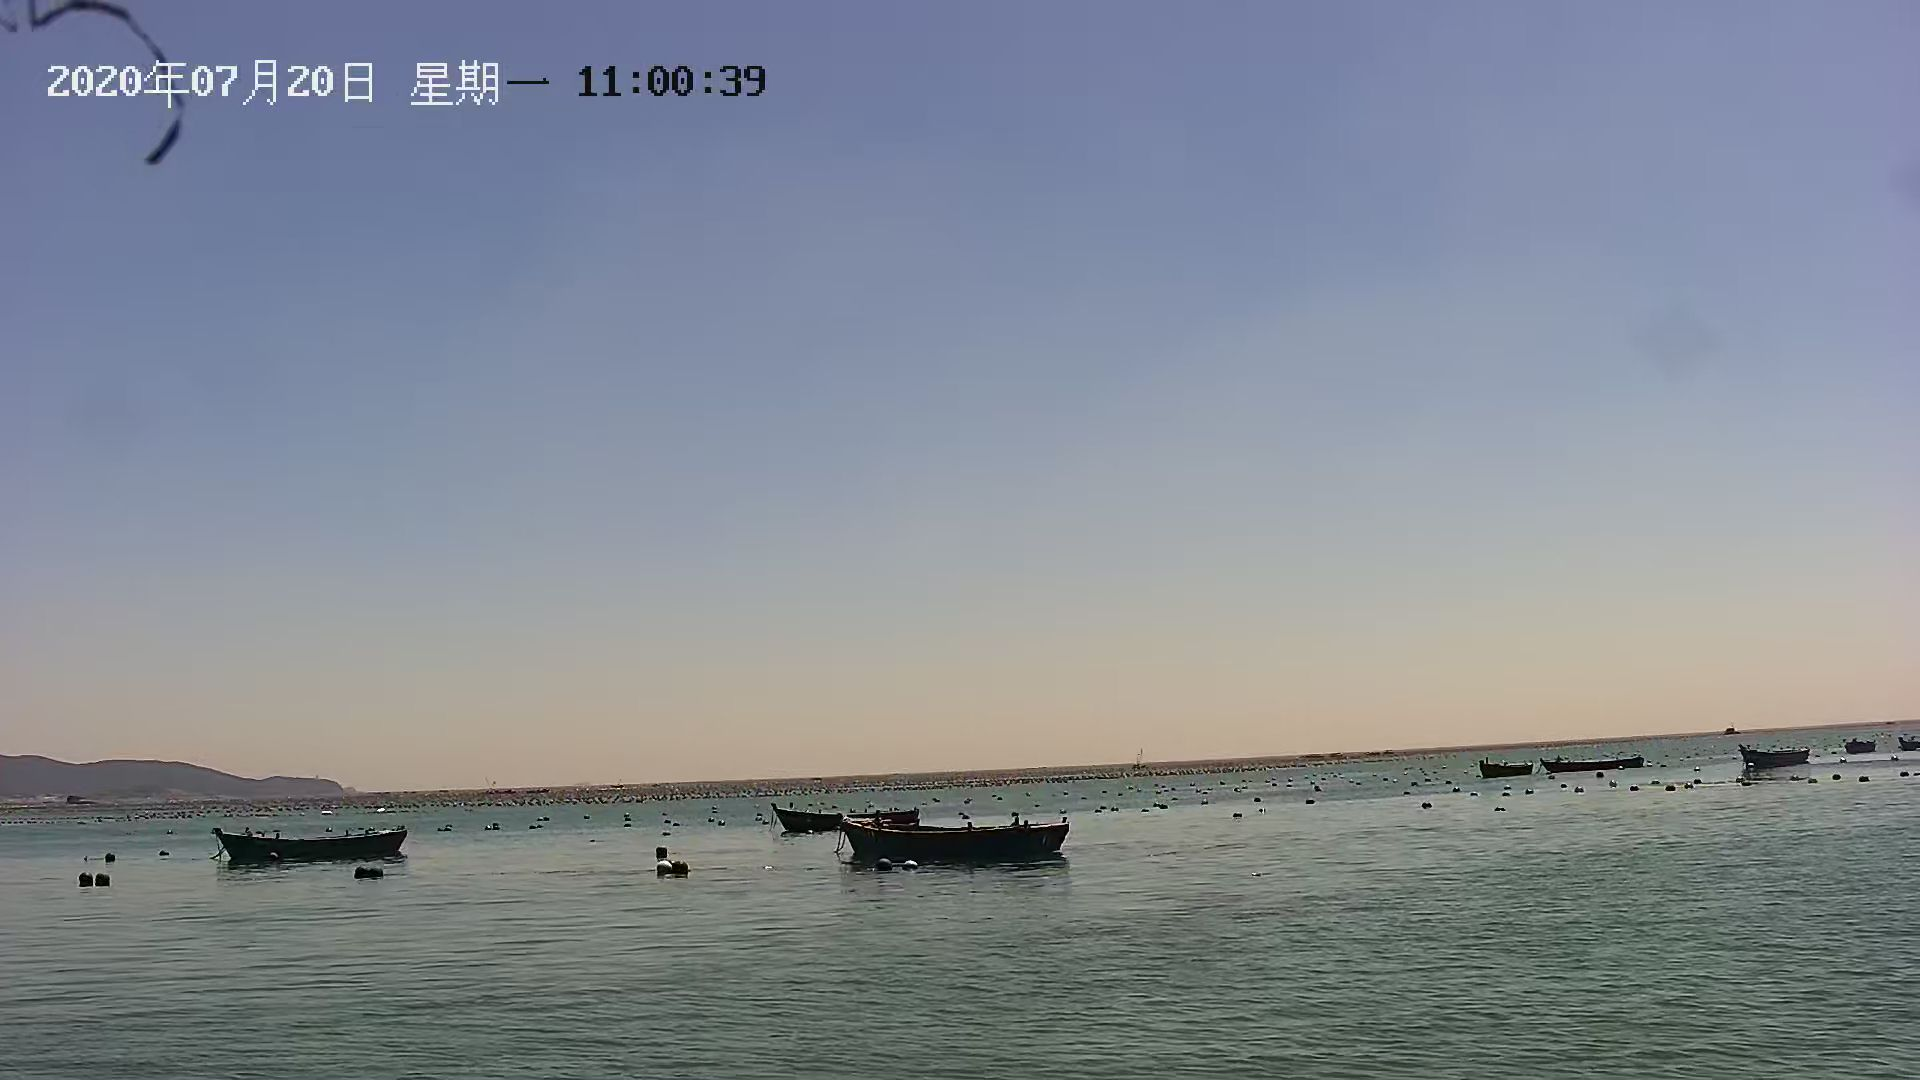ball: (667, 855, 698, 884), (654, 855, 674, 882), (90, 872, 120, 889), (73, 866, 95, 887)
boat: (843, 815, 1076, 868), (210, 816, 407, 866), (1534, 750, 1648, 774), (1729, 740, 1815, 771), (1472, 752, 1538, 777), (1844, 735, 1876, 756)
